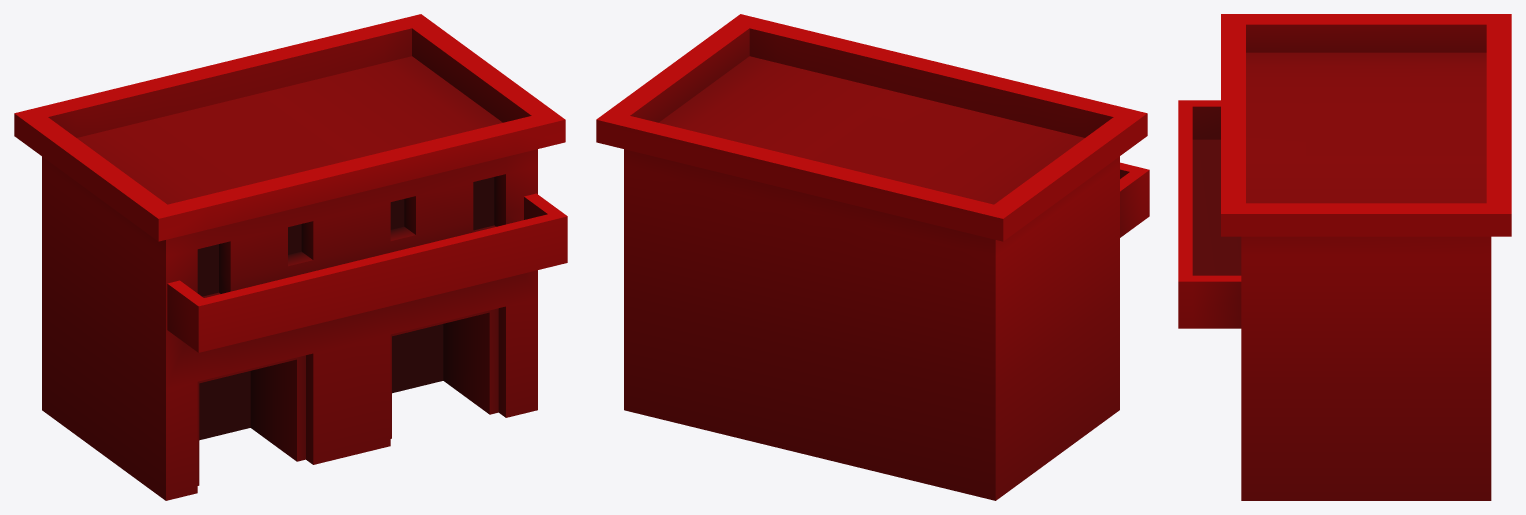
File: buildings-historical-desertbuildingold_v9.fbx
The picture shows the model from 3 angles, left to right: view 1: azimuth 30°, elevation 25°; view 2: azimuth 150°, elevation 25°; view 3: azimuth 270°, elevation 25°; orthographic projection.
Visible parts, largest first — view 1: DesertBuildingOld_v9; view 2: DesertBuildingOld_v9; view 3: DesertBuildingOld_v9.
Boxes of the visible parts, bbox=[...] form: DesertBuildingOld_v9: bbox=[14, 14, 567, 500]; DesertBuildingOld_v9: bbox=[596, 14, 1149, 500]; DesertBuildingOld_v9: bbox=[1178, 14, 1511, 500].
Bounding box in the file's own units: 19.47 × 13.43 × 13.72.
